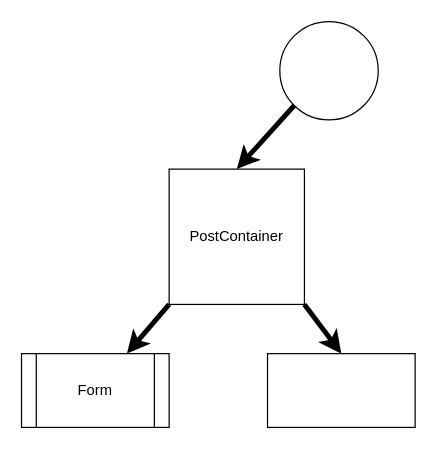
Image size: 437x449. Some labels were removed from this diagram. Each missing label, with the box of its shape:
App: (279, 20, 378, 120)
List: (266, 352, 415, 427)
